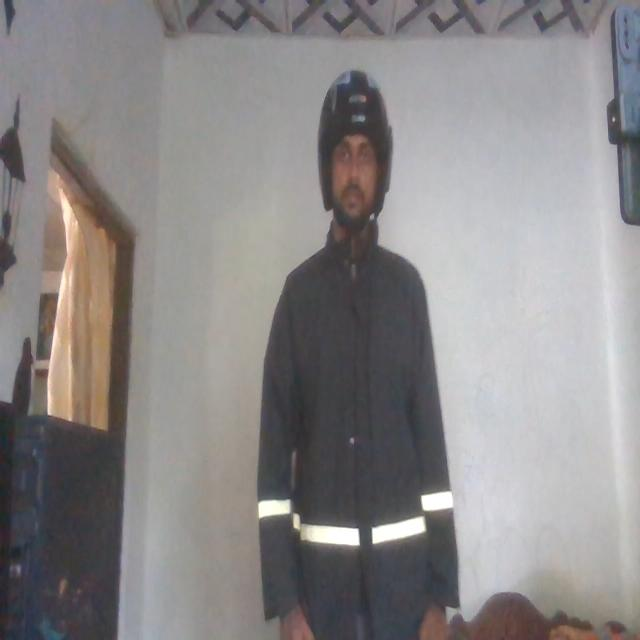Helmet_Wearer: (314, 71, 394, 261)
Jacket_Wearer: (257, 231, 462, 630)
Person: (257, 68, 467, 632)
